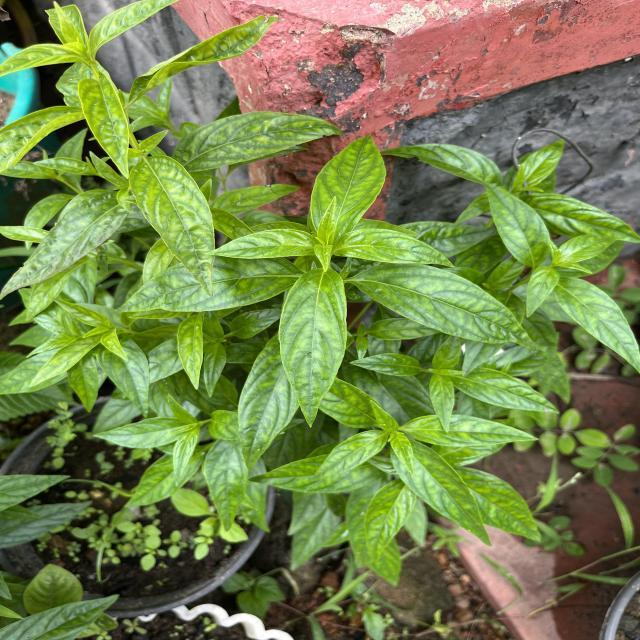Andrographis paniculata: (349, 262, 539, 356), (0, 190, 130, 302), (128, 154, 217, 298), (114, 253, 310, 313), (388, 438, 494, 548), (278, 264, 348, 428), (171, 110, 344, 172), (551, 275, 640, 374), (237, 334, 300, 473), (309, 133, 387, 237), (454, 465, 542, 543), (482, 180, 551, 268), (523, 194, 640, 244), (78, 69, 130, 181), (447, 366, 562, 414), (380, 143, 503, 187), (333, 227, 456, 269), (401, 413, 540, 448), (96, 334, 152, 418), (363, 478, 418, 562), (204, 440, 251, 532), (310, 428, 390, 482), (26, 331, 98, 388), (204, 228, 321, 259), (91, 416, 182, 448), (177, 314, 204, 390), (524, 266, 560, 318), (348, 352, 422, 377), (428, 374, 455, 432)
